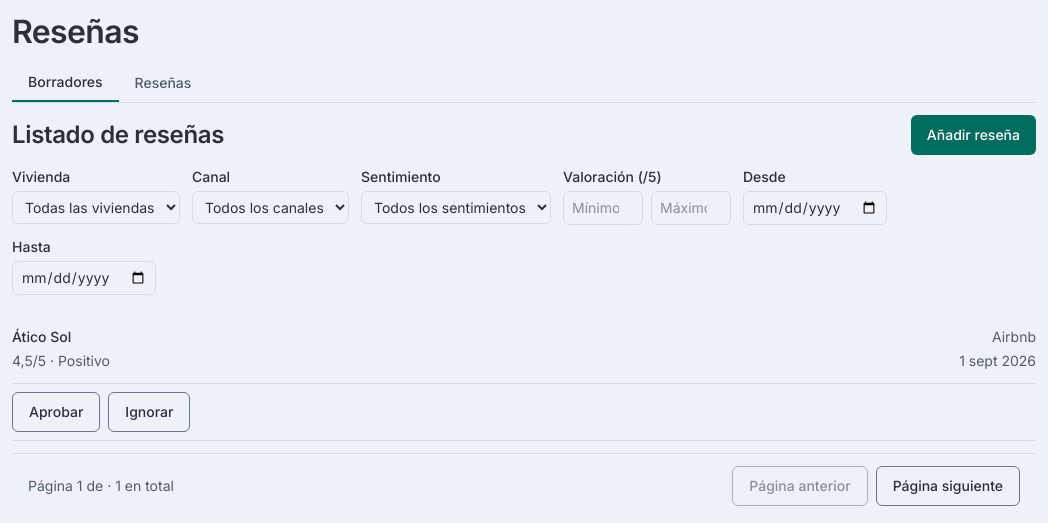
Test: ReviewsView — one write in flight (R3.3, R4.3, design D9) › does NOT disable the filter controls while a write is in flight
The width and height of the screenshot is (1048, 523).
Click the button "Aprobar": (56, 412) [12,392,100,432]
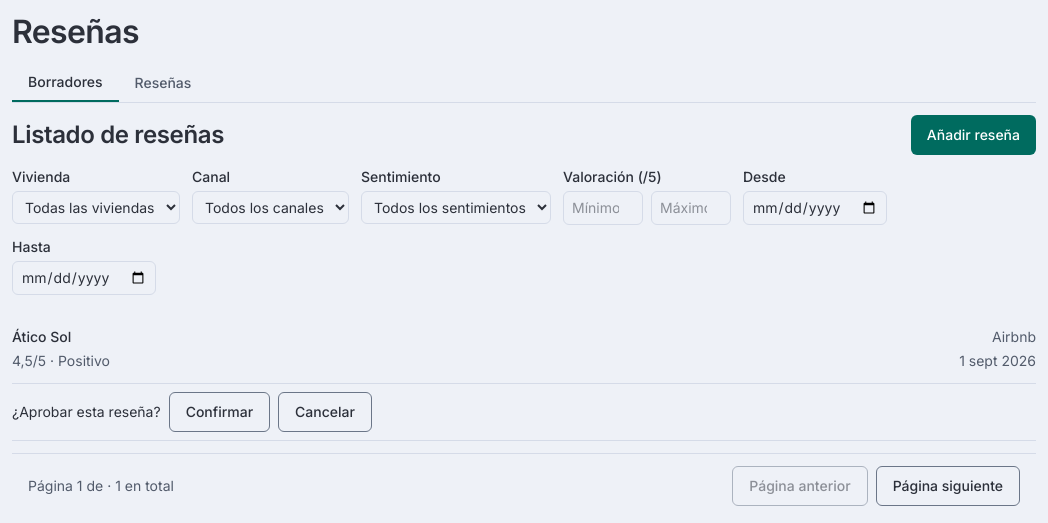
Click the button "Confirmar": (219, 412) [169,392,270,432]
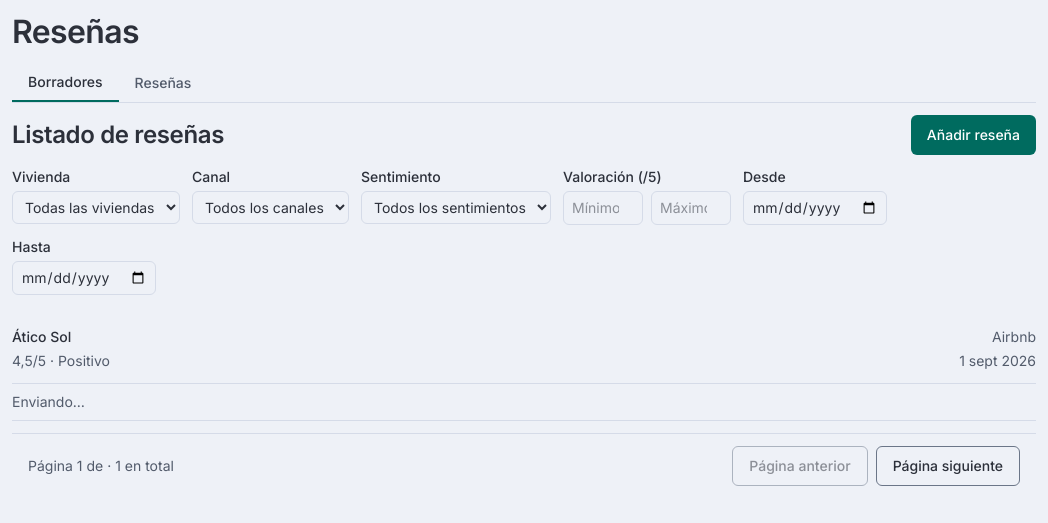
Expected: the dropdown labelled "Vivienda" is enabled, [12,191,180,224]
Now the text "Enviando…" is shown, box [12,393,85,410]
